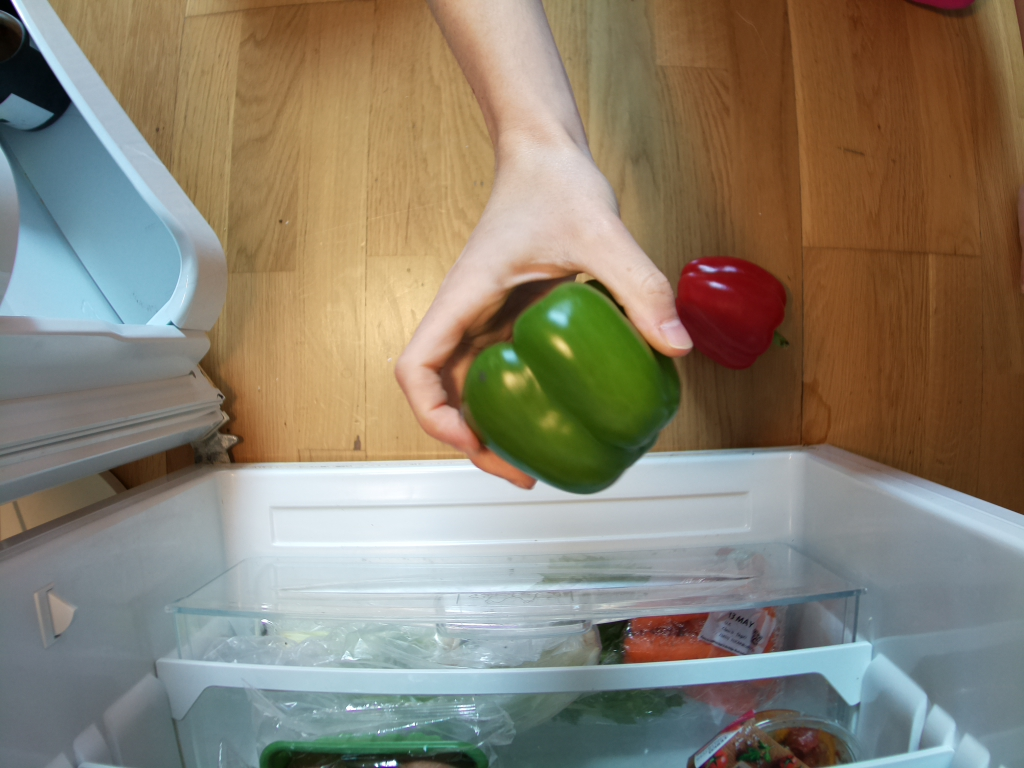pepper: (464, 270, 680, 503), (672, 252, 797, 375)
